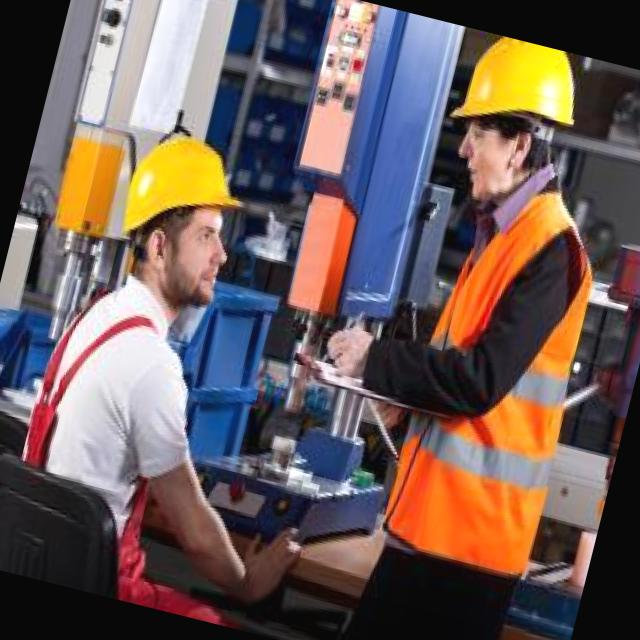helmet: (111, 118, 264, 263), (442, 27, 596, 157)
no-goggles: (130, 188, 248, 276)
no-vest: (23, 279, 212, 502)
vest: (383, 172, 615, 566)
